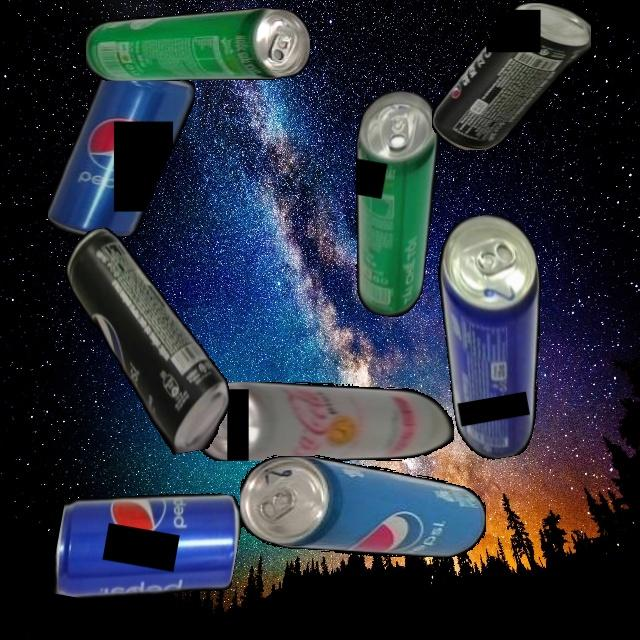debris: (59, 212, 238, 467), (422, 208, 569, 464), (49, 468, 246, 623), (328, 85, 455, 321), (240, 454, 486, 557), (48, 64, 195, 236), (432, 2, 591, 150), (195, 381, 454, 461), (85, 8, 310, 81)
